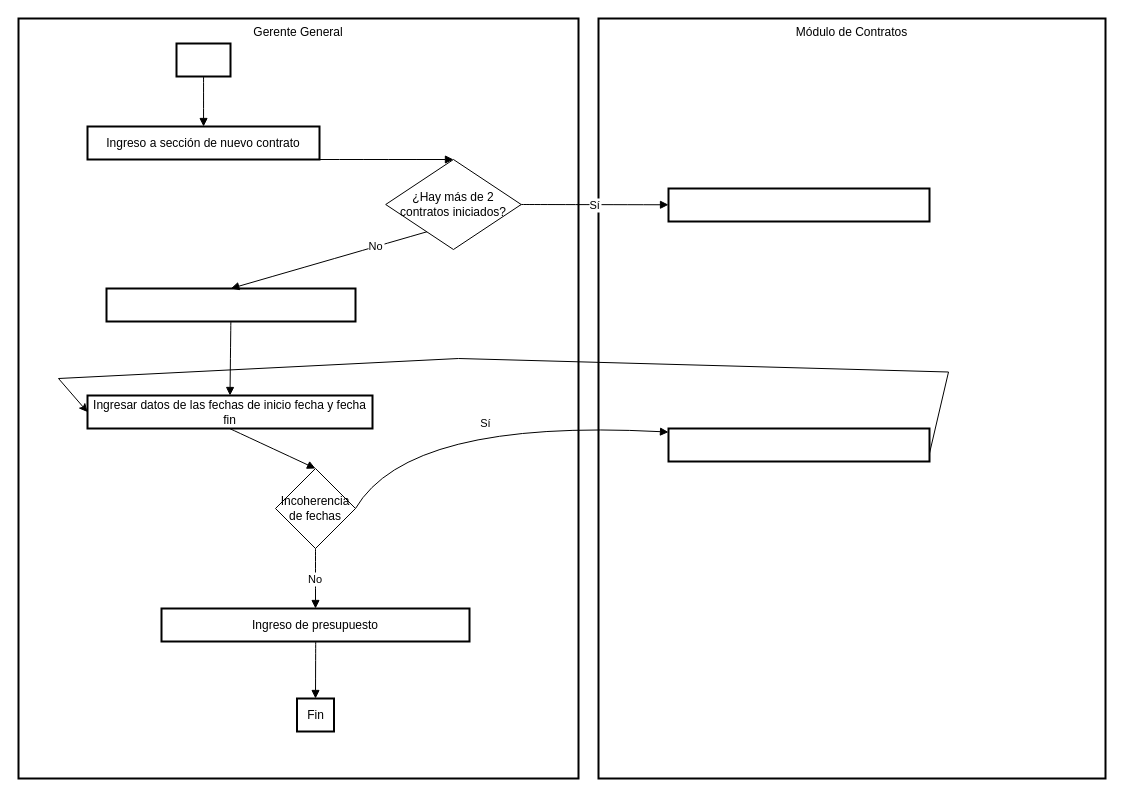
The diagram is 1123 pixels wide and 796 high, and some of its shapes have lost their labels. Here are the shapes that lost their labels. From the top down, the box of each, then its label:
(175, 42, 231, 77): Inicio
(667, 187, 930, 222): Emitir mensaje de exceso de proyectos
(105, 287, 356, 322): Ingresar datos del cliente
(667, 427, 930, 462): Enviar mensaje de incoherencia de fechas
